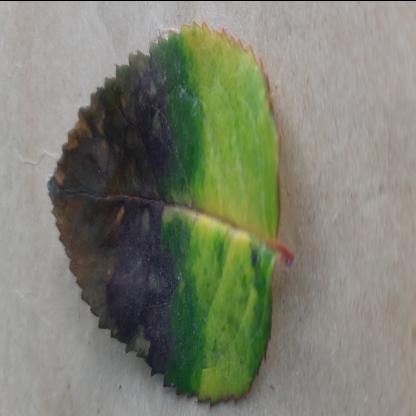powdery-mildew: (47, 15, 282, 406)
